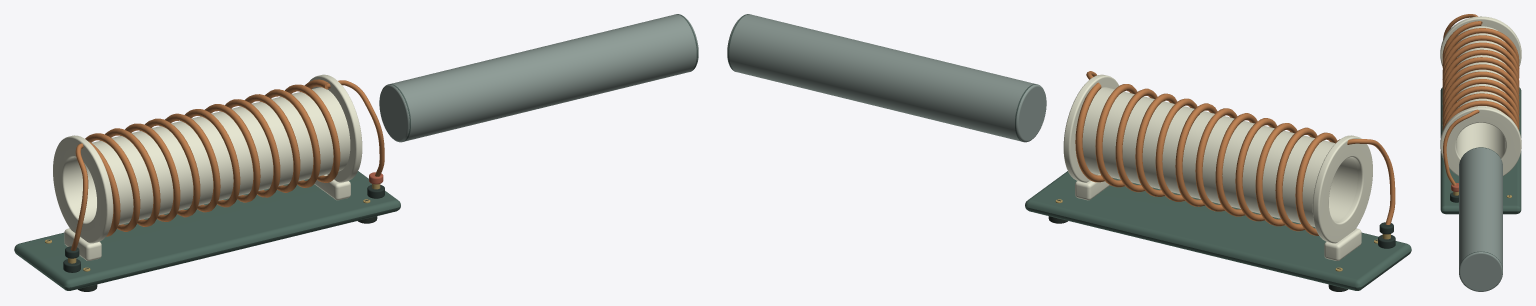
File: solenoid-v2.glb
3 renders of one model, left to right at view 1: azimuth 30°, elevation 25°; view 2: azimuth 150°, elevation 25°; view 3: azimuth 270°, elevation 25°, orthographic. The views are drawn at different scales.
Visible parts, largest first — view 1: IronCore, Base, Bobbin, Coil, FlangeLeft, FlangeRight, LeadRight, LeadLeft, SupportLeft, SupportRight; view 2: IronCore, Base, Bobbin, Coil, FlangeLeft, FlangeRight, SupportLeft, LeadLeft, SupportRight; view 3: IronCore, Coil, Bobbin, FlangeRight, Base, FlangeLeft, LeadRight, LeadLeft, TerminalBaseRight, CoreEdgeRight.
Part boxes in pixels (<box>): IronCore: <box>379,14,698,142</box>; Base: <box>14,171,400,290</box>; Bobbin: <box>68,87,350,225</box>; Coil: <box>85,79,340,236</box>; FlangeLeft: <box>53,135,113,243</box>; FlangeRight: <box>309,74,362,182</box>; LeadRight: <box>327,80,384,176</box>; LeadLeft: <box>70,143,88,250</box>; SupportLeft: <box>64,228,101,260</box>; SupportRight: <box>314,174,350,200</box>; IronCore: <box>727,14,1046,142</box>; Base: <box>1025,171,1411,290</box>; Bobbin: <box>1076,87,1357,226</box>; Coil: <box>1075,83,1339,235</box>; FlangeLeft: <box>1312,135,1372,243</box>; FlangeRight: <box>1063,74,1119,182</box>; SupportLeft: <box>1324,228,1361,260</box>; LeadLeft: <box>1347,139,1395,224</box>; SupportRight: <box>1075,174,1109,200</box>; IronCore: <box>1459,148,1502,291</box>; Coil: <box>1442,21,1519,130</box>; Bobbin: <box>1456,26,1506,157</box>; FlangeRight: <box>1440,107,1521,175</box>; Base: <box>1440,87,1521,214</box>; FlangeLeft: <box>1440,16,1521,66</box>; LeadRight: <box>1443,109,1479,185</box>; LeadLeft: <box>1443,14,1482,39</box>; TerminalBaseRight: <box>1450,192,1458,202</box>; CoreEdgeRight: <box>1459,251,1502,285</box>.
Size of the model in its own units: 11.3 by 2.18 by 1.66.
